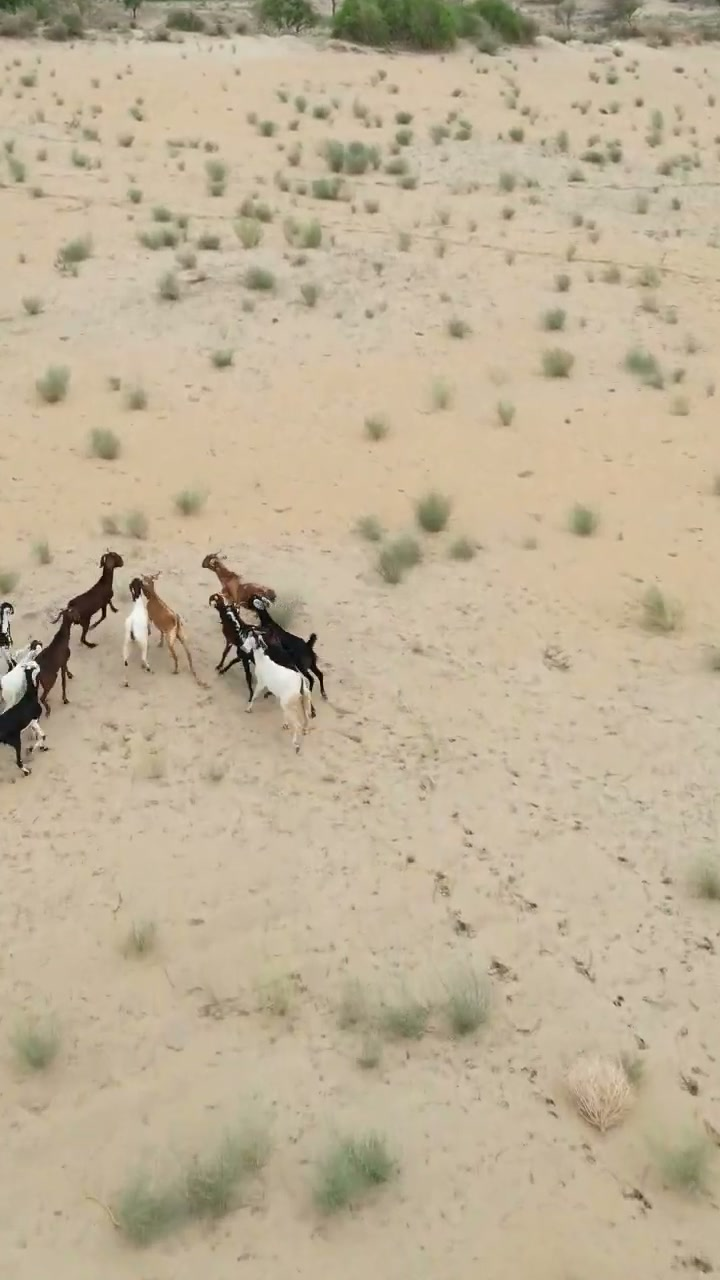animal_foot_print: (58, 677, 715, 1256)
